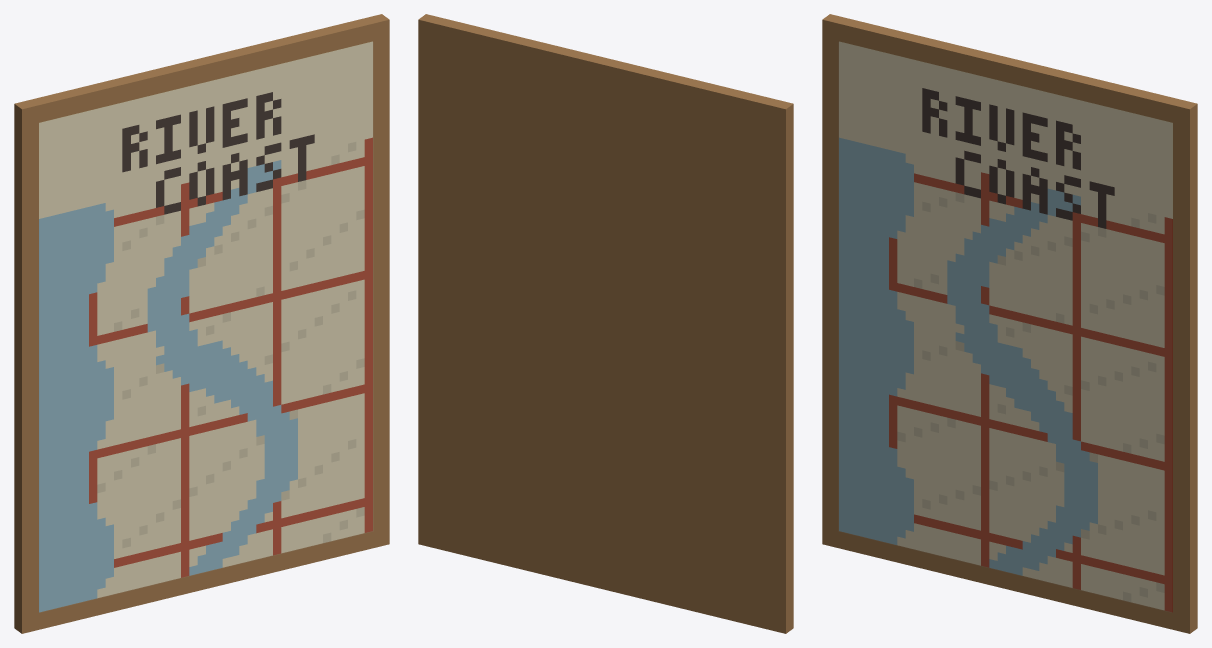
Rendered from poster_map.glb.
The picture shows the model from 3 angles, left to right: view 1: azimuth 30°, elevation 25°; view 2: azimuth 150°, elevation 25°; view 3: azimuth 330°, elevation 25°; orthographic projection.
Visible parts, largest first — view 1: Poster_map; view 2: Poster_map; view 3: Poster_map.
Boxes of the visible parts, box(x1,y1,x2,y2) form: Poster_map: box(14, 14, 389, 633); Poster_map: box(418, 14, 793, 633); Poster_map: box(822, 14, 1197, 633).
Bounding box in the file's own units: 0.55 × 0.75 × 0.022.
Materials: 3 (1 with a texture image).
